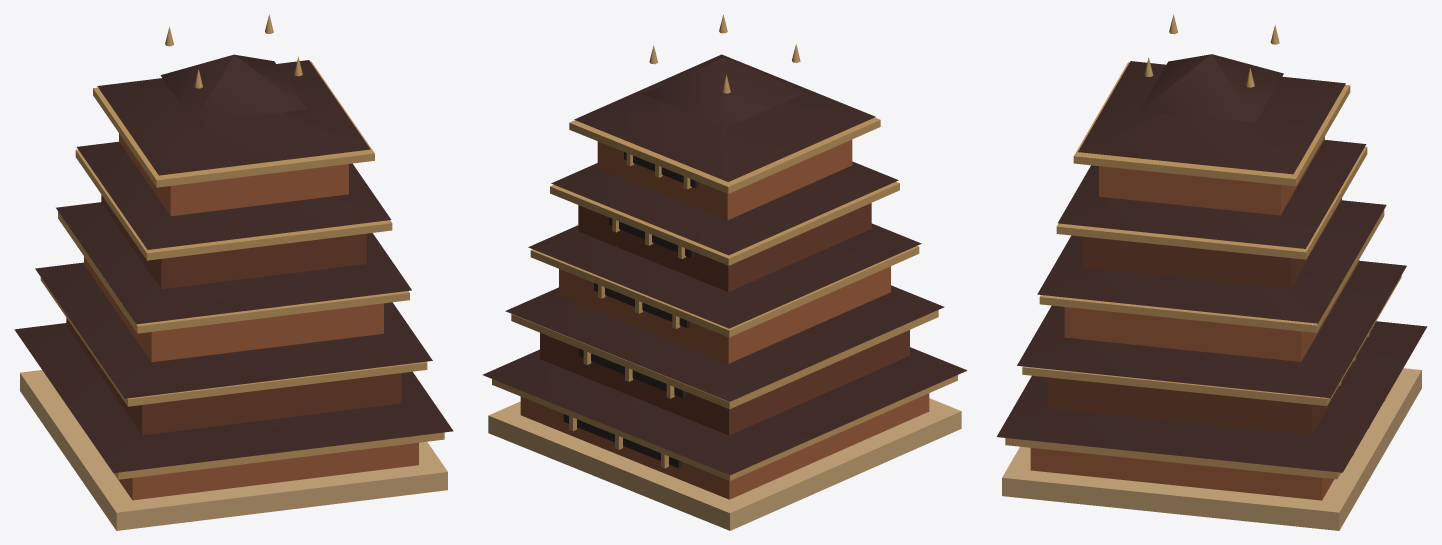
3 views of the same model, side by side, from view 1: azimuth 30°, elevation 25°; view 2: azimuth 150°, elevation 25°; view 3: azimuth 270°, elevation 25° (orthographic). The views are drawn at different scales.
Parts seen in each view (by area): view 1: Roof_Eave (×6), Floor_Body (×5), Eave_Band (×5), Foundation_Platform; view 2: Roof_Eave (×6), Floor_Body (×5), Eave_Band (×5), Foundation_Platform, Timber_Window_Reveal (×3); view 3: Roof_Eave (×6), Floor_Body (×5), Eave_Band (×5), Foundation_Platform.
Boxes of the visible parts, x1,y1,x2,y2 form: Roof_Eave (×6): [14, 54, 453, 473]; Floor_Body (×5): [66, 133, 418, 500]; Eave_Band (×5): [40, 61, 444, 479]; Foundation_Platform: [20, 370, 447, 530]; Roof_Eave (×6): [482, 54, 967, 475]; Floor_Body (×5): [520, 139, 929, 499]; Eave_Band (×5): [492, 117, 957, 480]; Foundation_Platform: [488, 398, 961, 530]; Timber_Window_Reveal (×3): [563, 283, 690, 468]; Roof_Eave (×6): [996, 54, 1427, 472]; Floor_Body (×5): [1030, 136, 1376, 500]; Eave_Band (×5): [1005, 62, 1401, 479]; Foundation_Platform: [1002, 368, 1421, 530].
Size of the model in its own units: 6.39 by 6.57 by 6.39.
